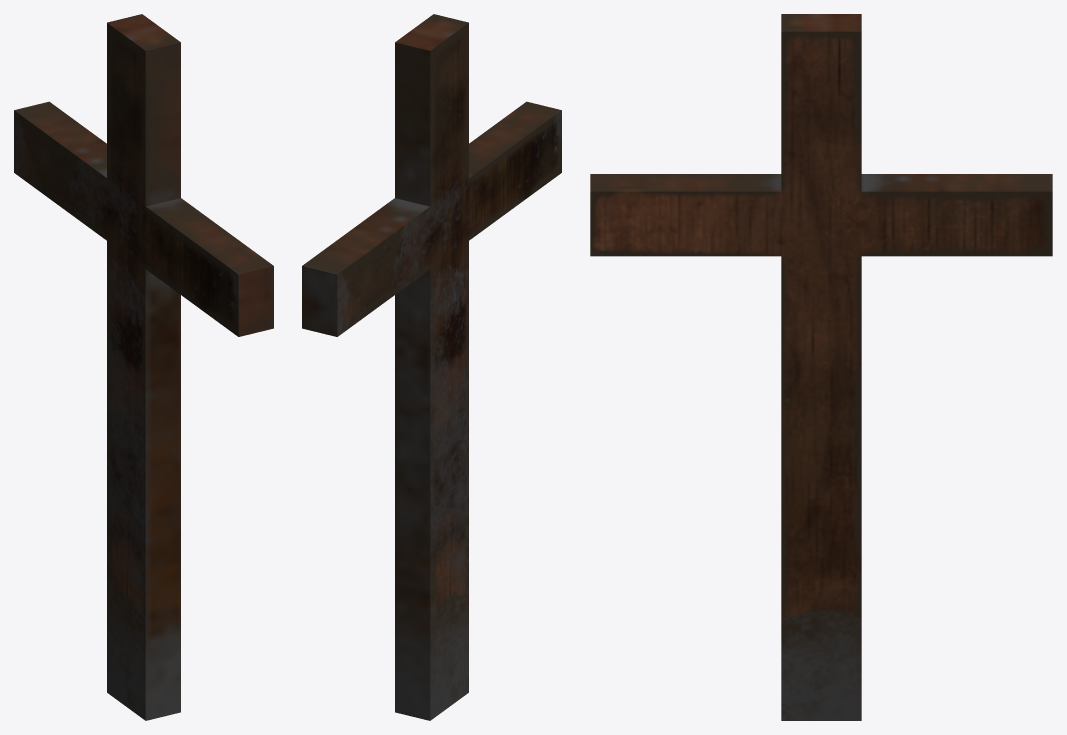
The model's file is Cross.fbx.
3 views of the same model, side by side, from view 1: azimuth 30°, elevation 25°; view 2: azimuth 150°, elevation 25°; view 3: azimuth 270°, elevation 25° (orthographic). The views are drawn at different scales.
Parts seen in each view (by area): view 1: Cruz; view 2: Cruz; view 3: Cruz.
Boxes of the visible parts, box(x1,y1,x2,y2) form: Cruz: box(14, 14, 273, 720); Cruz: box(302, 14, 561, 720); Cruz: box(590, 14, 1052, 720).
Bounding box in the file's own units: 20.58 × 373 × 226.
